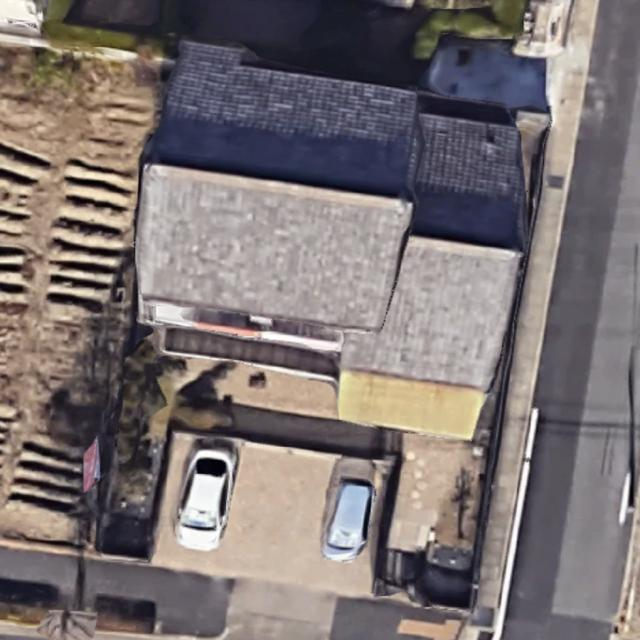Batiment: (136, 41, 525, 438)
